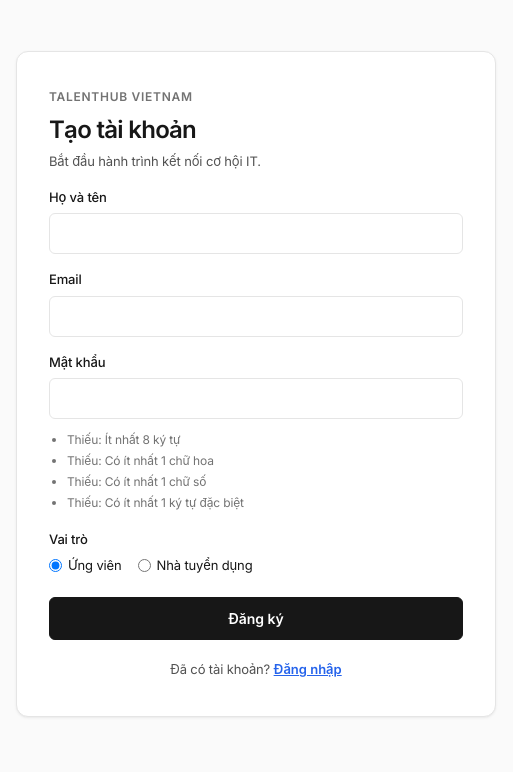
RegisterPage › reports field-level validation and password guidance
What coordinates should you click on to do the following:
click the button "Đăng ký"
I would click on:
 (256, 619)
Its box is 49,597 -> 463,640.
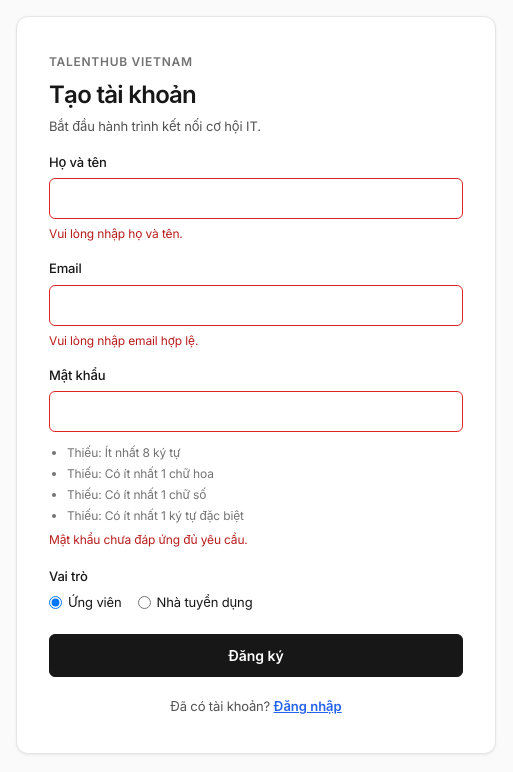
Expected: the text "Vui lòng nhập họ và tên." is shown, 49,226 -> 183,241
Expected: the text "Vui lòng nhập email hợp lệ." is shown, 49,332 -> 198,348
Expected: the text "Mật khẩu chưa đáp ứng đủ yêu cầu." is shown, 49,532 -> 248,547
